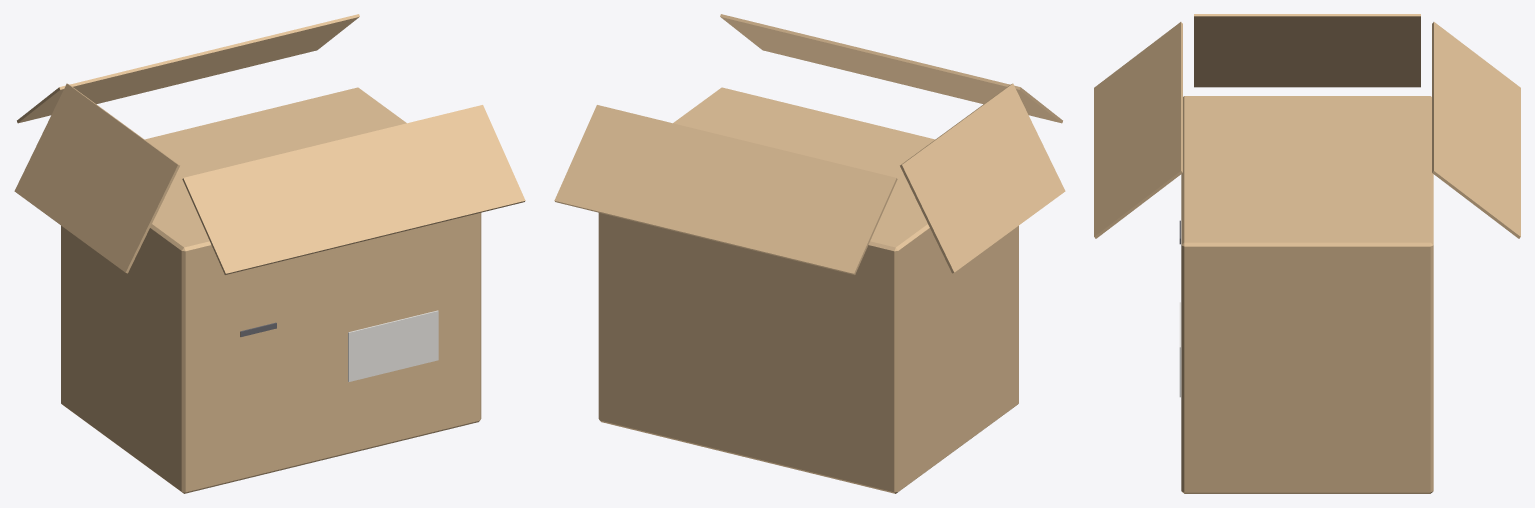
File: prop_cardboard_box_03.glb
The picture shows the model from 3 angles, left to right: view 1: azimuth 30°, elevation 25°; view 2: azimuth 150°, elevation 25°; view 3: azimuth 270°, elevation 25°; orthographic projection. The views are drawn at different scales.
Parts seen in each view (by area): view 1: prop_cardboard_box_03_body; view 2: prop_cardboard_box_03_body; view 3: prop_cardboard_box_03_body.
Boxes of the visible parts, <box> form: prop_cardboard_box_03_body: <box>14,14,525,493</box>; prop_cardboard_box_03_body: <box>554,14,1065,493</box>; prop_cardboard_box_03_body: <box>1094,14,1520,493</box>.
Bounding box in the file's own units: 0.8198 × 0.7276 × 0.8462.
